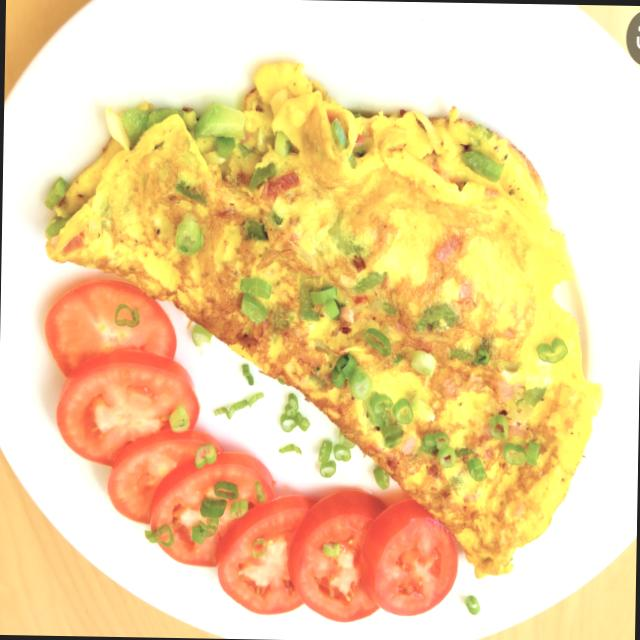ca chua: (45, 282, 457, 622)
trung chien: (46, 64, 600, 575)
